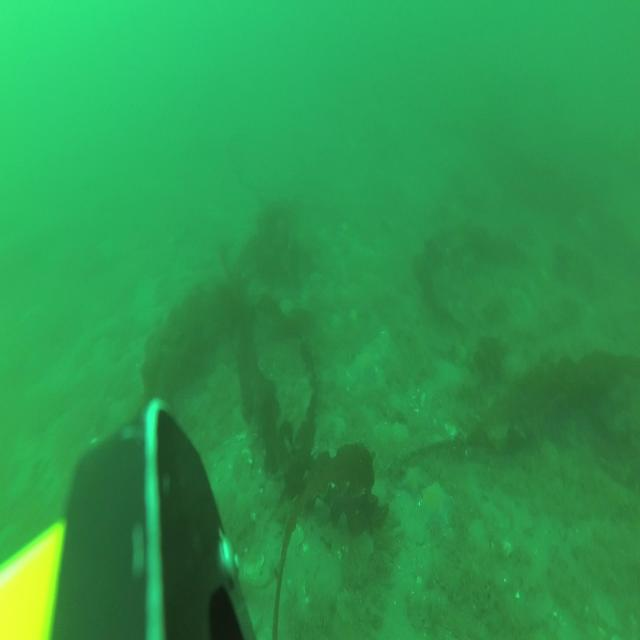scallop: (352, 527, 376, 565), (242, 546, 264, 580), (287, 519, 306, 551)
starfish: (419, 480, 451, 530), (398, 460, 430, 502)
